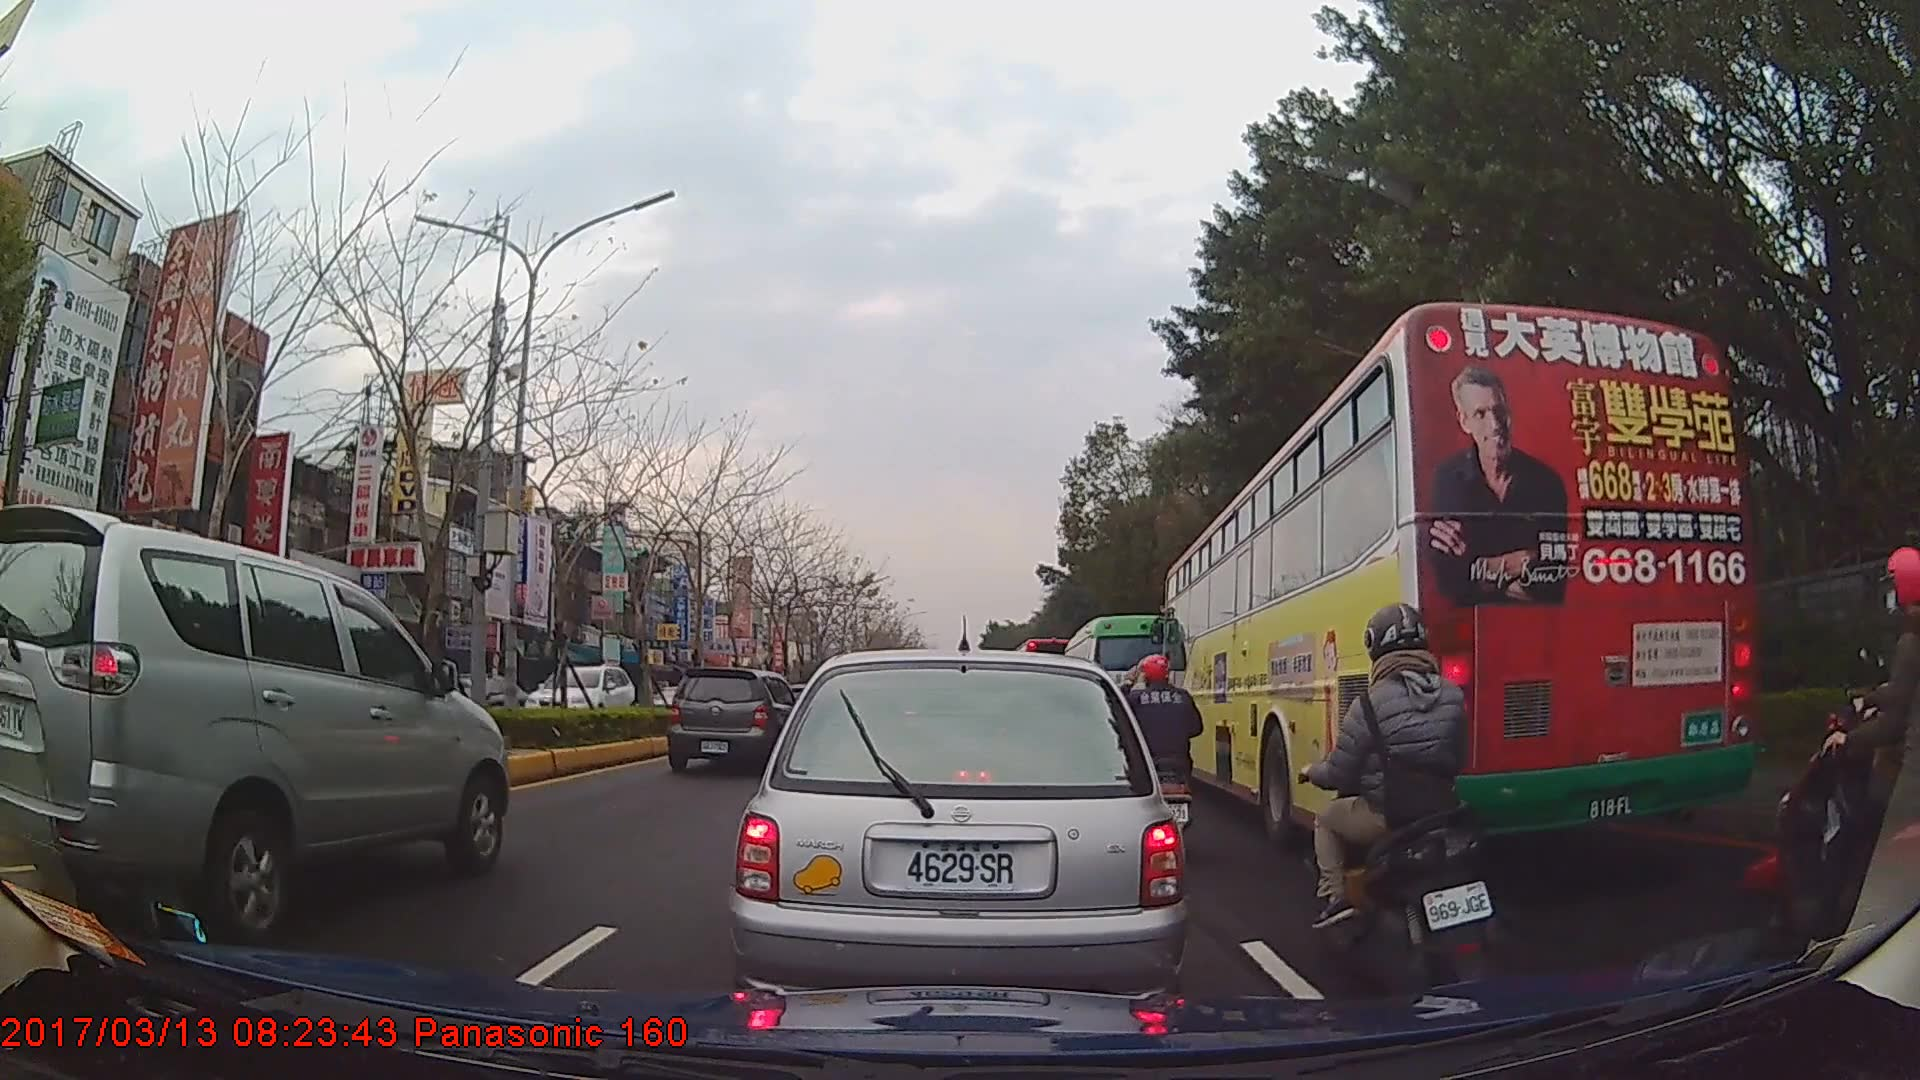rider: (1300, 596, 1495, 998), (1729, 550, 1916, 968), (1113, 653, 1204, 843)
vehicle: (1160, 299, 1759, 860), (16, 499, 510, 939), (731, 646, 1187, 1020), (1060, 613, 1191, 765), (666, 669, 799, 776), (525, 661, 638, 734), (408, 670, 524, 739)
